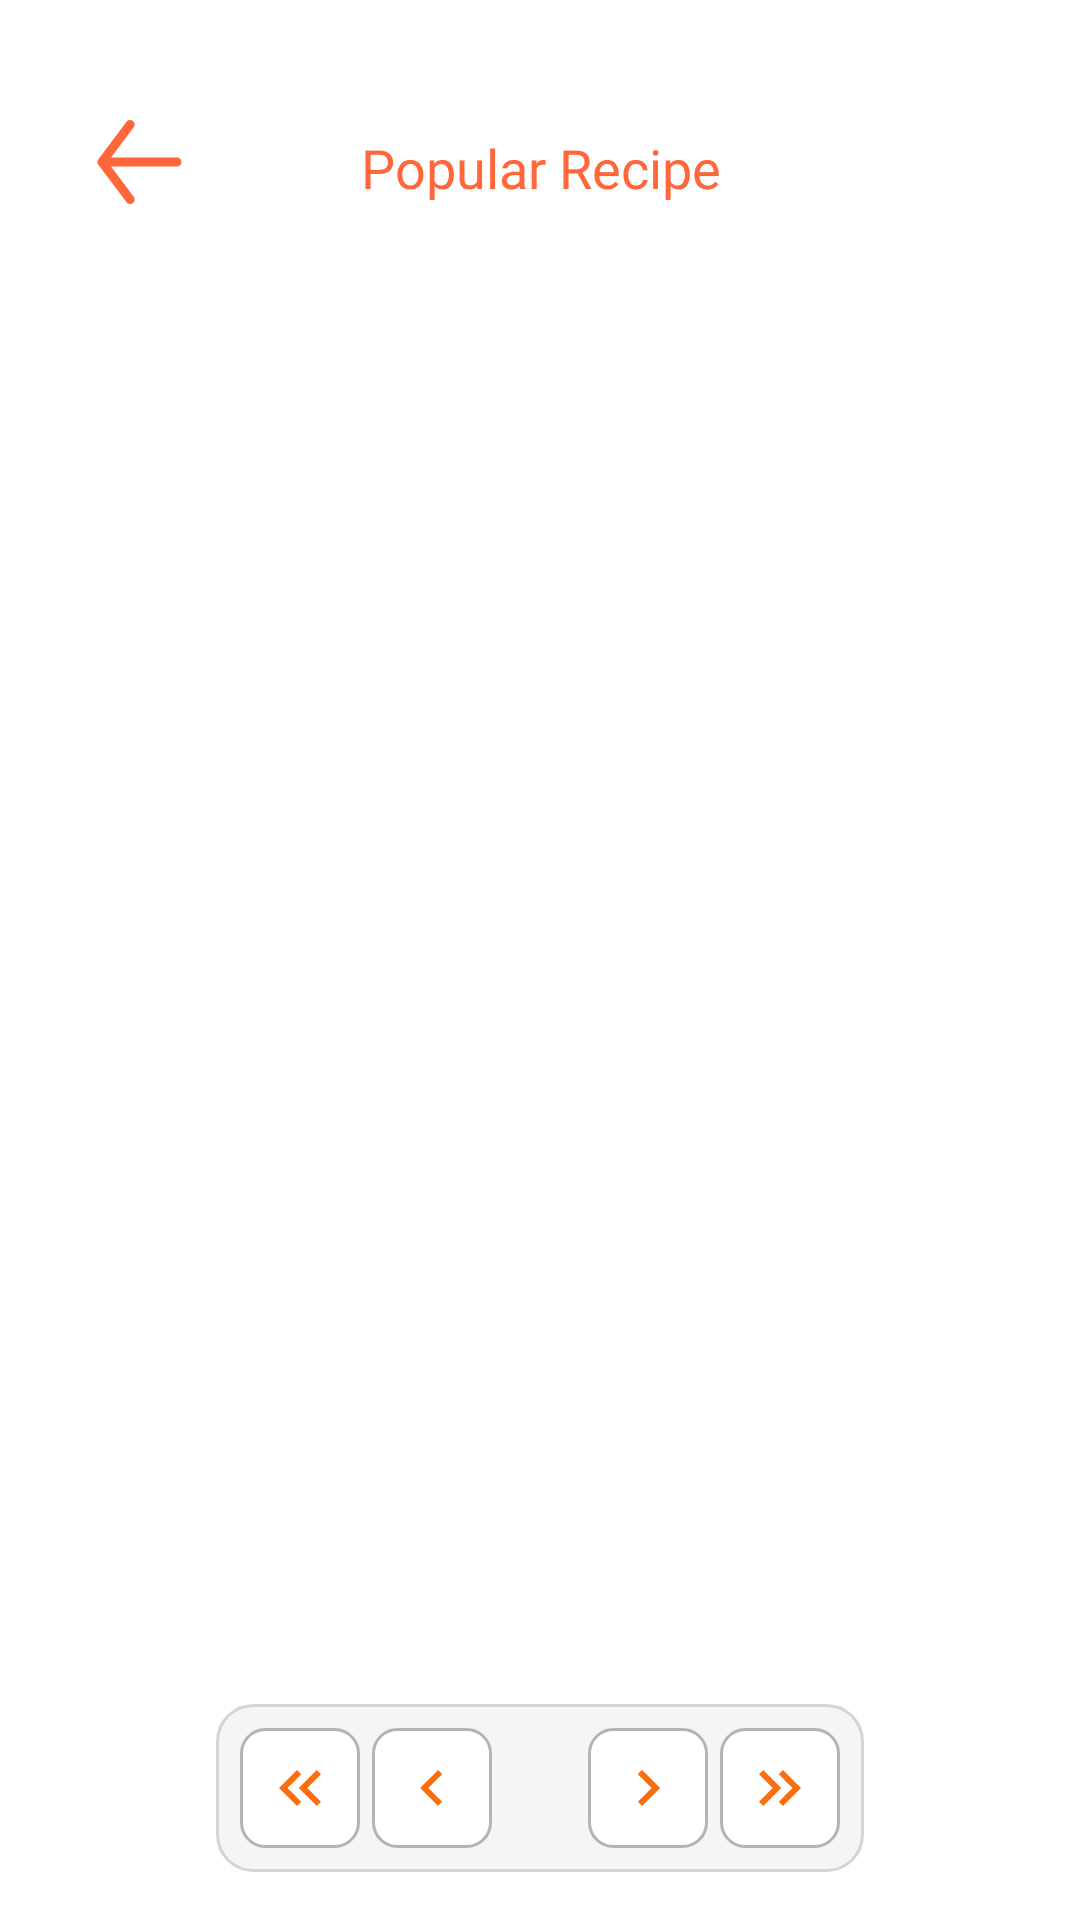

Point at icon controls on the screen. Image size 1080px×1920px, points as (x=x, y=y).
arrow left: (x=432, y=1788)
arrow right: (x=648, y=1788)
back arrow: (x=139, y=162)
first page: (x=300, y=1788)
last page: (x=780, y=1788)
